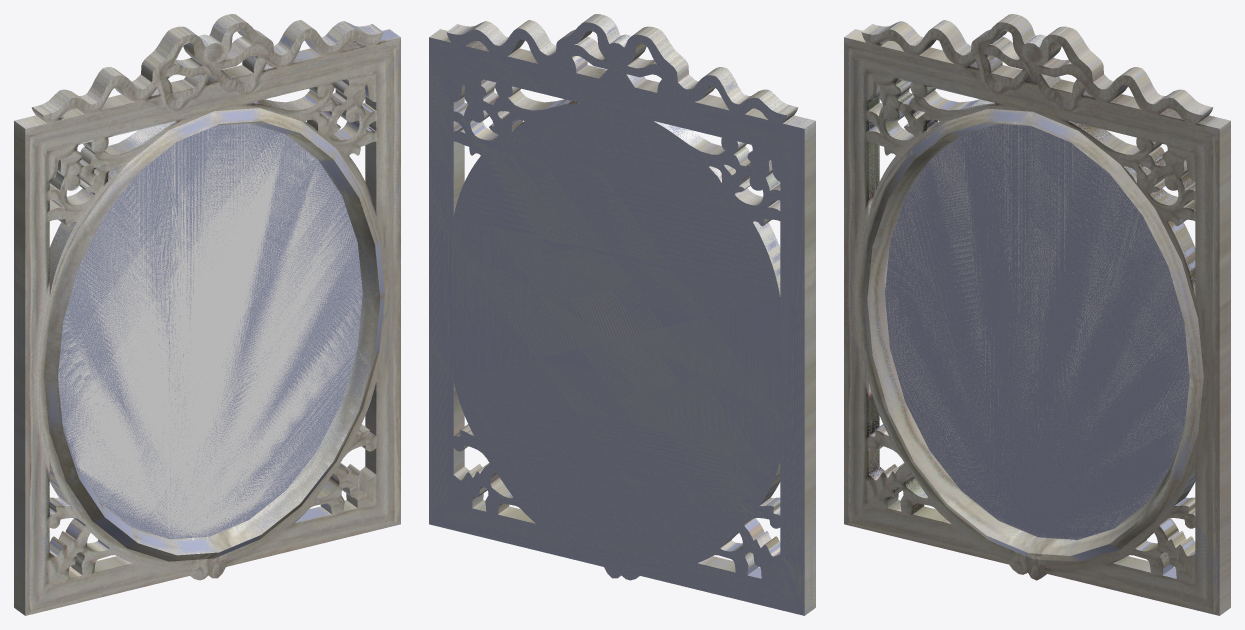
Rendered from prop_miroir_juliette.fbx.
3 renders of one model, left to right at view 1: azimuth 30°, elevation 25°; view 2: azimuth 150°, elevation 25°; view 3: azimuth 330°, elevation 25°, orthographic.
Visible parts, largest first — view 1: Group1; view 2: Group1; view 3: Group1.
Boxes of the visible parts, x1,y1,x2,y2 form: Group1: [14, 14, 400, 615]; Group1: [429, 14, 815, 615]; Group1: [844, 14, 1230, 615].
Size of the model in its own units: 0.467 by 0.6539 by 0.0343.
